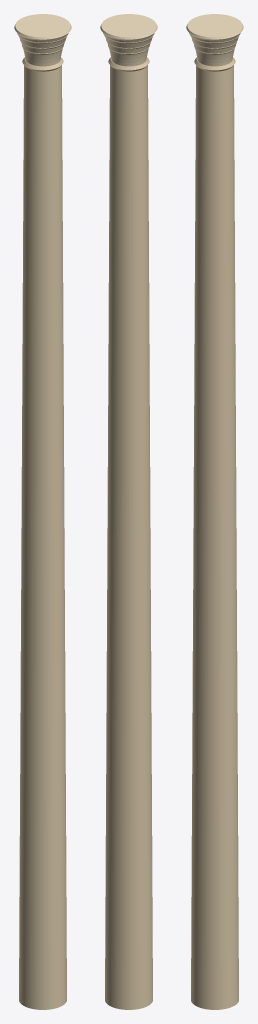
Rendered from ashoka_pillar_s2.glb.
The picture shows the model from 3 angles, left to right: view 1: azimuth 30°, elevation 25°; view 2: azimuth 210°, elevation 25°; view 3: azimuth 270°, elevation 25°; orthographic projection.
Visible parts, largest first — view 1: ashoka_pillar; view 2: ashoka_pillar; view 3: ashoka_pillar.
Part boxes in pixels (x1,y1,x2,y2): ashoka_pillar: (14,14,71,1009); ashoka_pillar: (100,14,157,1009); ashoka_pillar: (186,14,243,1009).
Bounding box in the file's own units: 0.6377 × 12 × 0.6377.
